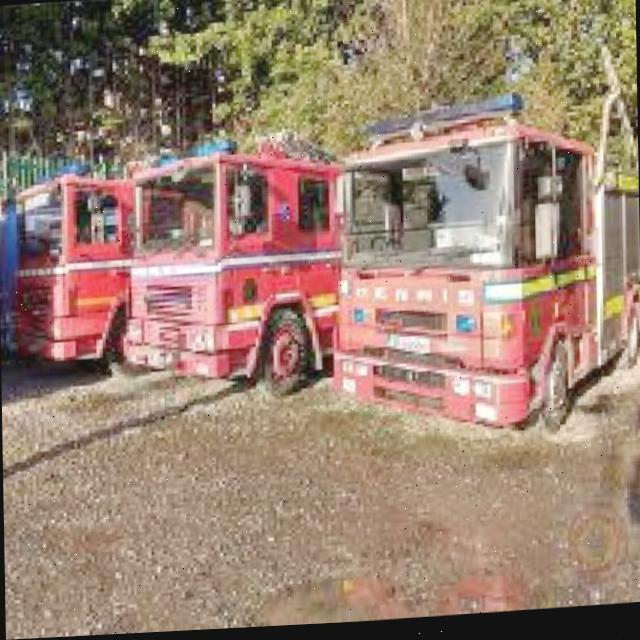emergency: (324, 92, 640, 450), (125, 136, 386, 417)
